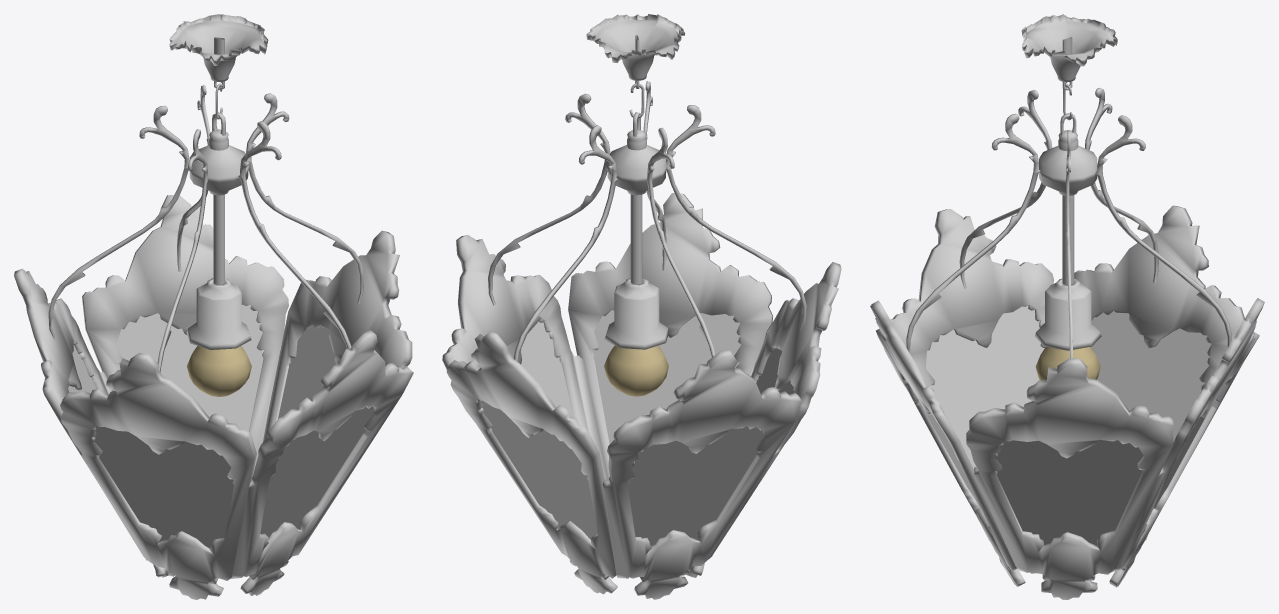
File: lantern_chandelier_01_4k.obj
The picture shows the model from 3 angles, left to right: view 1: azimuth 30°, elevation 25°; view 2: azimuth 150°, elevation 25°; view 3: azimuth 270°, elevation 25°; orthographic projection.
Visible parts, largest first — view 1: lantern_chandelier_01; view 2: lantern_chandelier_01; view 3: lantern_chandelier_01.
Part boxes in pixels (x1=…): lantern_chandelier_01: x1=14, y1=14, x2=413, y2=599; lantern_chandelier_01: x1=442, y1=14, x2=841, y2=599; lantern_chandelier_01: x1=870, y1=14, x2=1264, y2=599.
Size of the model in its own units: 0.5792 by 0.8776 by 0.5746.
